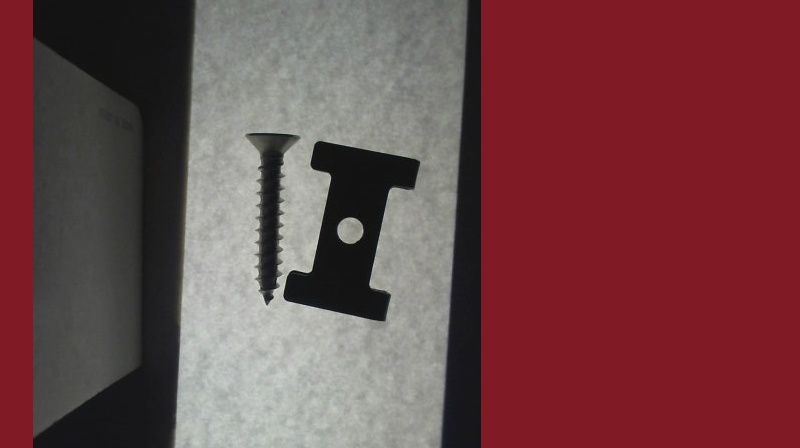O002: (281, 137, 418, 323)
S001: (243, 129, 301, 306)
